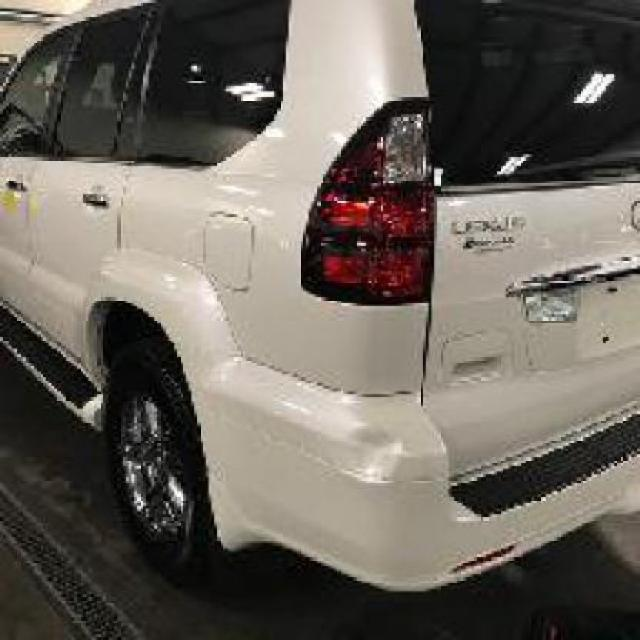car damage: (344, 416, 400, 483), (520, 259, 605, 293)
